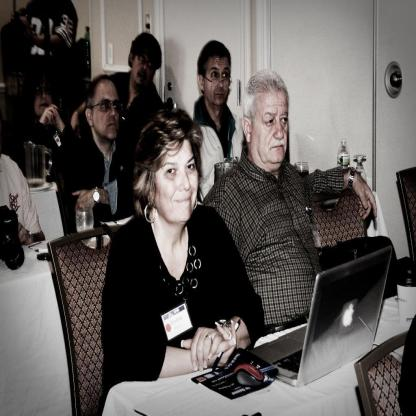board: (248, 244, 394, 388)
